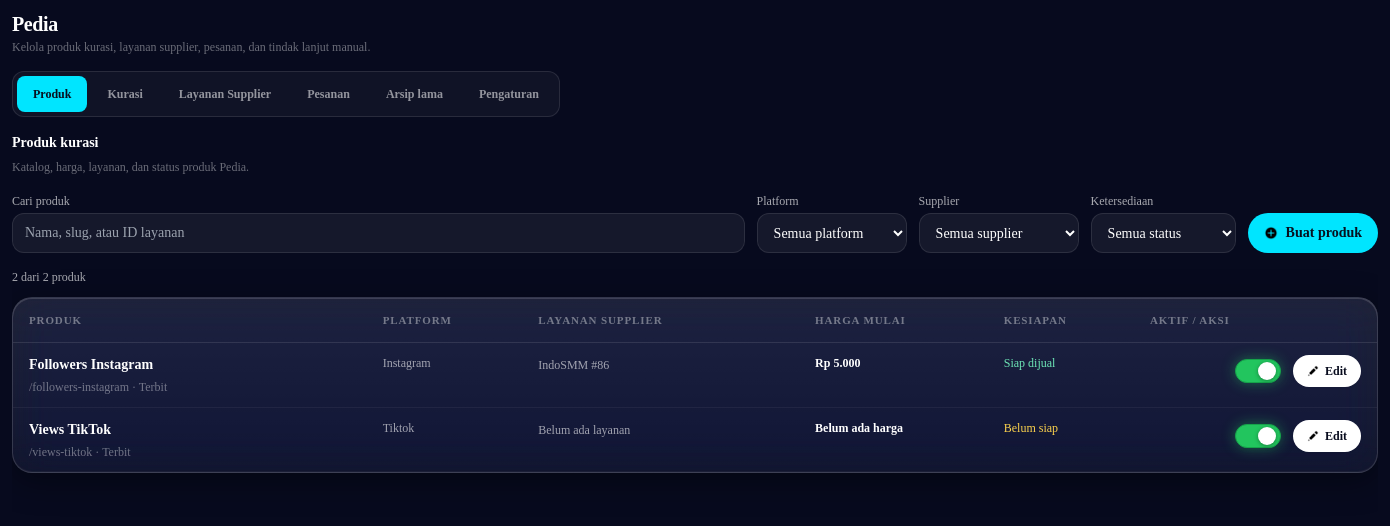
Test: failed toggle is visible and does not pretend status changed
The width and height of the screenshot is (1390, 526).
Click the switch named "Nonaktifkan Followers Instagram" at (1258, 371), box [1235, 359, 1281, 383]
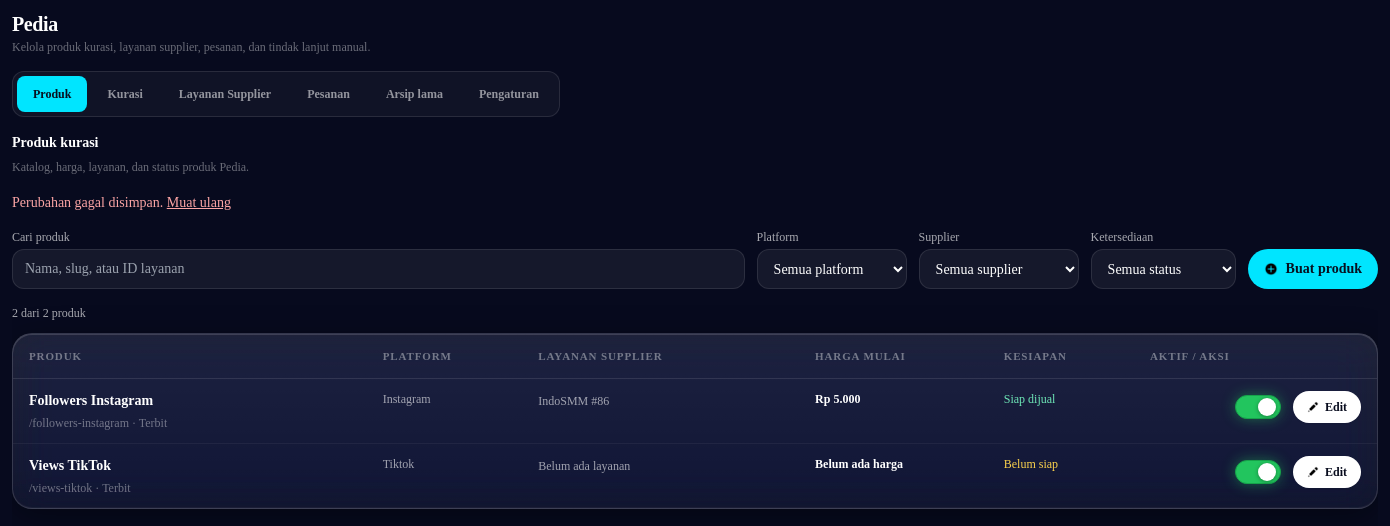
Check: the switch named "Nonaktifkan Followers Instagram" is shown, box [1235, 395, 1281, 419]
Check: the message shows "Perubahan gagal disimpan", box [12, 195, 163, 210]
